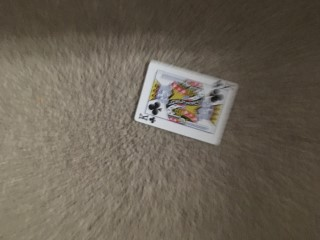KingOfClubs: (134, 59, 238, 145)
